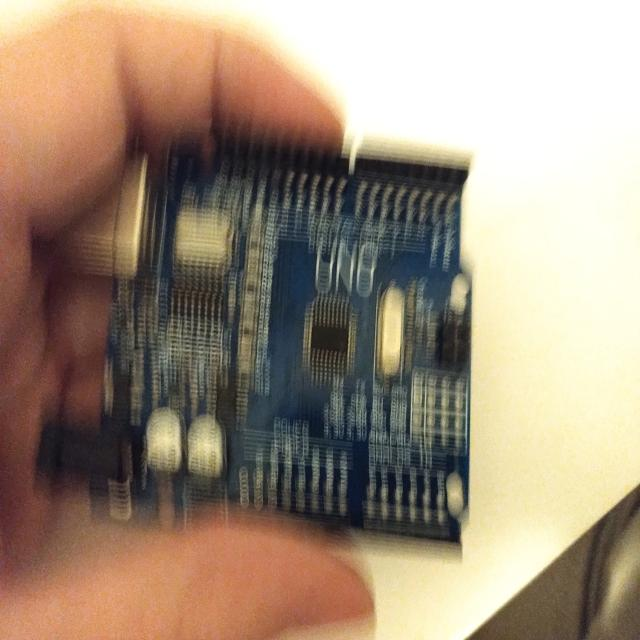arduino: (38, 119, 476, 562)
